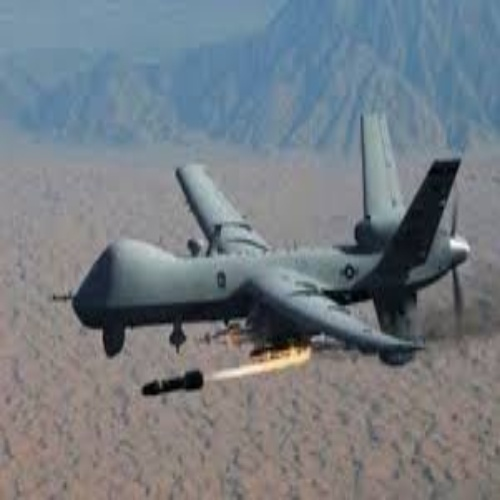uav519: (62, 113, 477, 368)
